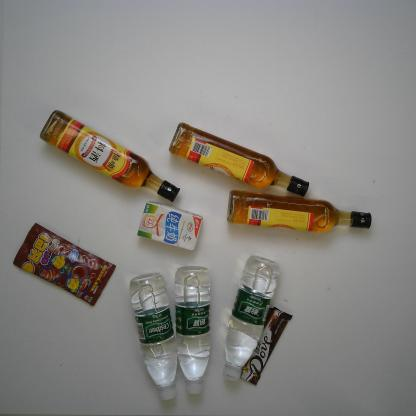Candy: (11, 222, 118, 310)
Chocolate: (240, 307, 294, 386)
Drink: (218, 254, 282, 384), (129, 272, 178, 403), (172, 264, 214, 400)
Milk: (136, 200, 204, 252)
Seasoner: (35, 110, 184, 203), (165, 121, 312, 199), (225, 186, 374, 233)
